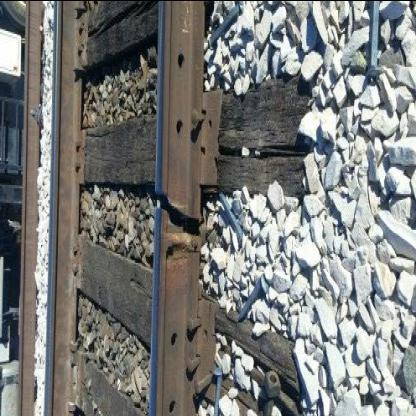Defective 2: (150, 154, 207, 293)
